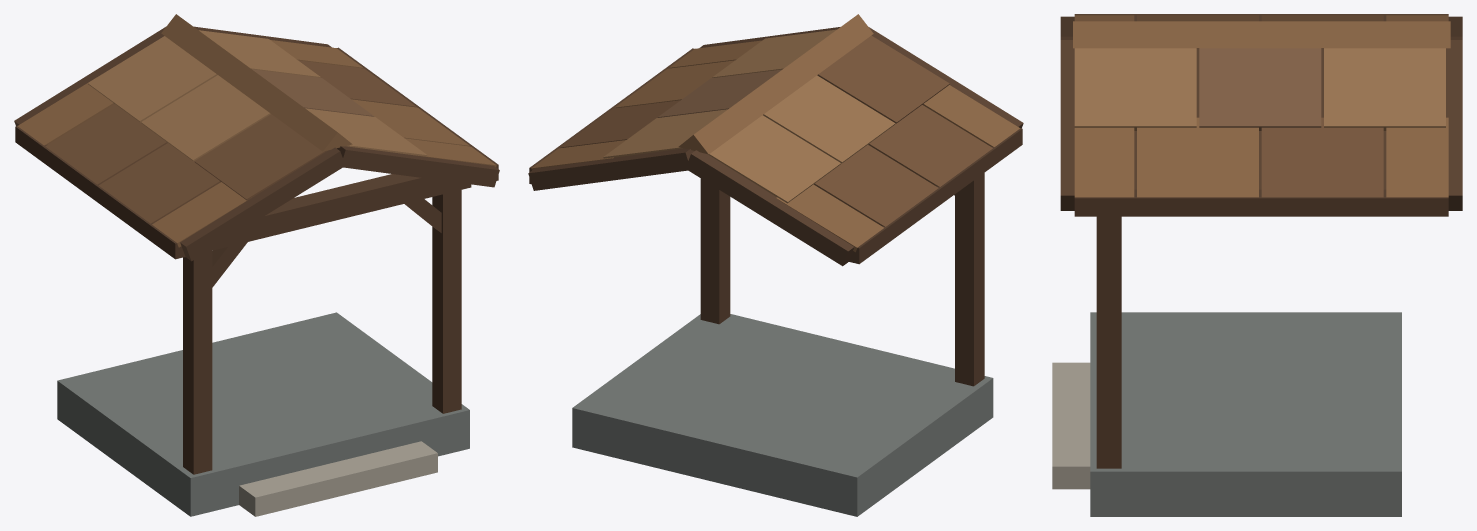
Rendered from ENV_Cottage_Porch_LOD1.glb.
The picture shows the model from 3 angles, left to right: view 1: azimuth 30°, elevation 25°; view 2: azimuth 150°, elevation 25°; view 3: azimuth 270°, elevation 25°; orthographic projection. The views are drawn at different scales.
Parts seen in each view (by area): view 1: ENV_Cottage_COMMON_LOD1_porch_roofTiles, ENV_Cottage_COMMON_LOD1_porch_stoneDark, ENV_Cottage_COMMON_LOD1_porch_woodDark, ENV_Cottage_COMMON_LOD1_porch_stone; view 2: ENV_Cottage_COMMON_LOD1_porch_stoneDark, ENV_Cottage_COMMON_LOD1_porch_roofTiles, ENV_Cottage_COMMON_LOD1_porch_woodDark; view 3: ENV_Cottage_COMMON_LOD1_porch_roofTiles, ENV_Cottage_COMMON_LOD1_porch_stoneDark, ENV_Cottage_COMMON_LOD1_porch_woodDark, ENV_Cottage_COMMON_LOD1_porch_stone.
Part boxes in pixels (x1,y1,x2,y2): ENV_Cottage_COMMON_LOD1_porch_roofTiles: (17, 14, 496, 247); ENV_Cottage_COMMON_LOD1_porch_stoneDark: (57, 312, 469, 516); ENV_Cottage_COMMON_LOD1_porch_woodDark: (14, 26, 499, 474); ENV_Cottage_COMMON_LOD1_porch_stone: (239, 441, 437, 516); ENV_Cottage_COMMON_LOD1_porch_stoneDark: (572, 314, 993, 516); ENV_Cottage_COMMON_LOD1_porch_roofTiles: (531, 14, 1020, 252); ENV_Cottage_COMMON_LOD1_porch_woodDark: (528, 27, 1023, 386); ENV_Cottage_COMMON_LOD1_porch_roofTiles: (1073, 15, 1450, 197); ENV_Cottage_COMMON_LOD1_porch_stoneDark: (1090, 312, 1401, 516); ENV_Cottage_COMMON_LOD1_porch_woodDark: (1060, 14, 1462, 468); ENV_Cottage_COMMON_LOD1_porch_stone: (1052, 362, 1090, 489).
Size of the model in its own units: 2.8 by 2.94 by 2.63.
